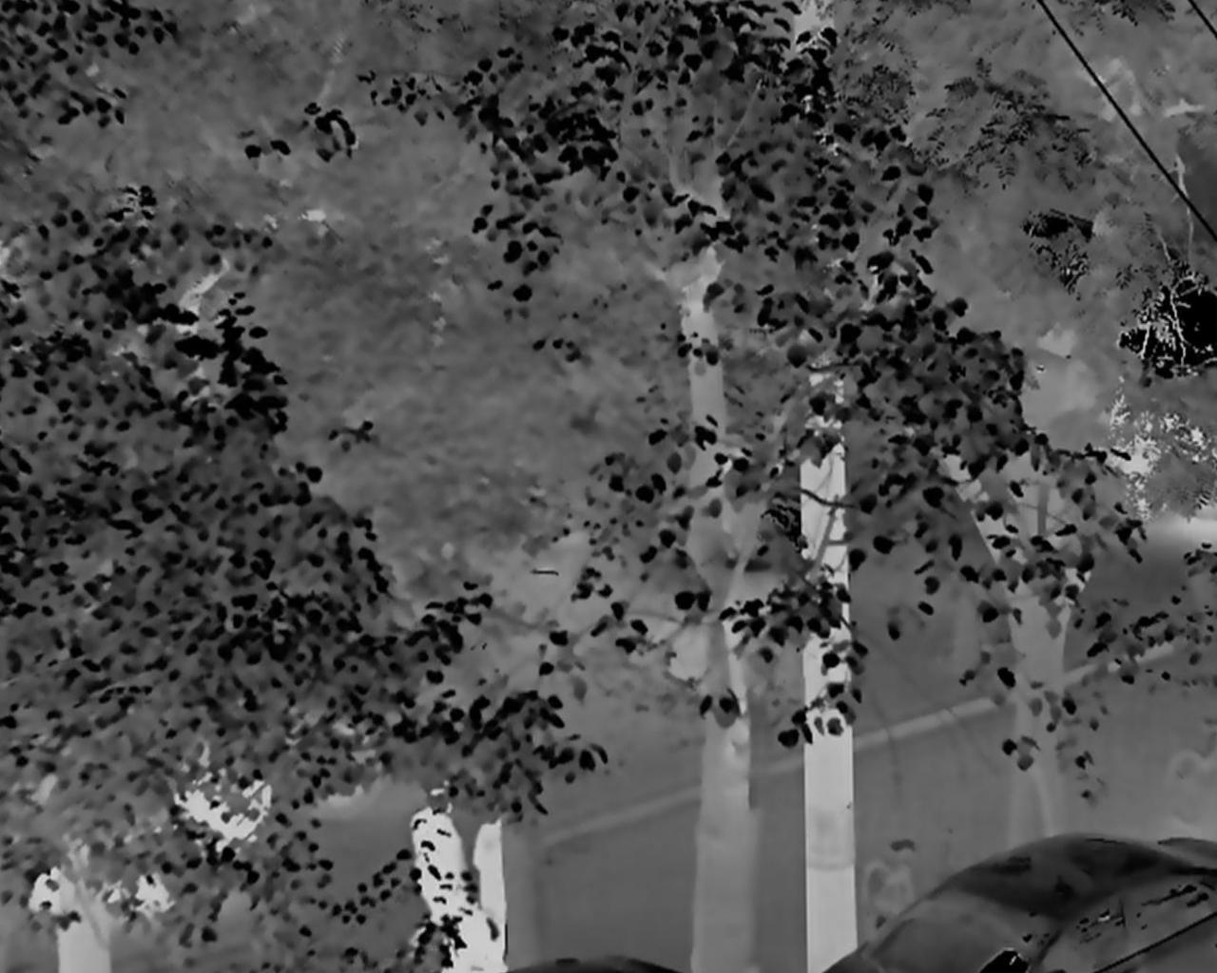person: (410, 780, 468, 963), (467, 816, 508, 973)
